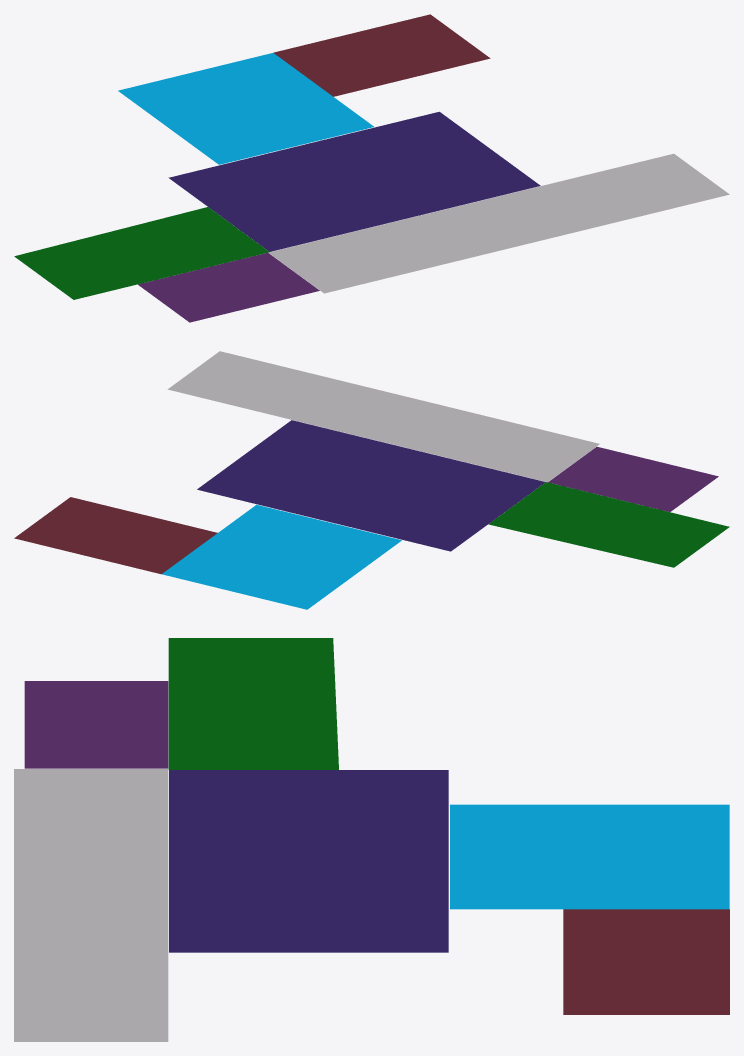
Rendered from FLOOR.glb.
The picture shows the model from 3 angles, top to bottom: view 1: azimuth 30°, elevation 25°; view 2: azimuth 150°, elevation 25°; view 3: azimuth 270°, elevation 25°; orthographic projection. The views are drawn at different scales.
Visible parts, largest first — view 1: 2 bedroom.001, Cube.006, 2 bedroom, Cube.004, 1 work room, Cube.005; view 2: 2 bedroom.001, Cube.006, 2 bedroom, Cube.004, 1 work room, Cube.005; view 3: 2 bedroom.001, Cube.006, 2 bedroom, Cube.004, 1 work room, Cube.005.
Part boxes in pixels (x1,y1,x2,y2): 2 bedroom.001: (168,111,540,251); Cube.006: (269,153,729,293); 2 bedroom: (118,53,373,164); Cube.004: (14,207,269,299); 1 work room: (273,14,490,96); Cube.005: (138,252,319,322); 2 bedroom.001: (197,420,545,551); Cube.006: (167,351,599,482); 2 bedroom: (162,504,401,609); Cube.004: (488,482,729,567); 1 work room: (14,497,217,574); Cube.005: (548,446,718,511); 2 bedroom.001: (169,770,448,952); Cube.006: (14,769,168,1041); 2 bedroom: (450,804,729,909); Cube.004: (168,638,338,769); 1 work room: (563,909,729,1014); Cube.005: (24,681,168,768).
Size of the model in its own units: 7.72 by 1.97e-08 by 5.78.
